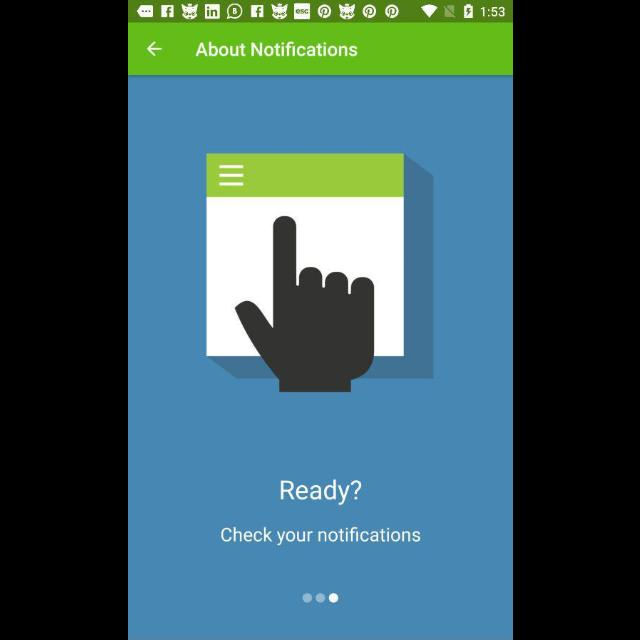icon: (146, 43, 162, 57)
image: (206, 154, 434, 392)
pageindicator: (302, 592, 338, 604)
text: (220, 526, 420, 546), (195, 42, 358, 58), (279, 479, 361, 506)
toolbar: (128, 24, 512, 76)
uppertaskbar: (128, 1, 512, 23)
